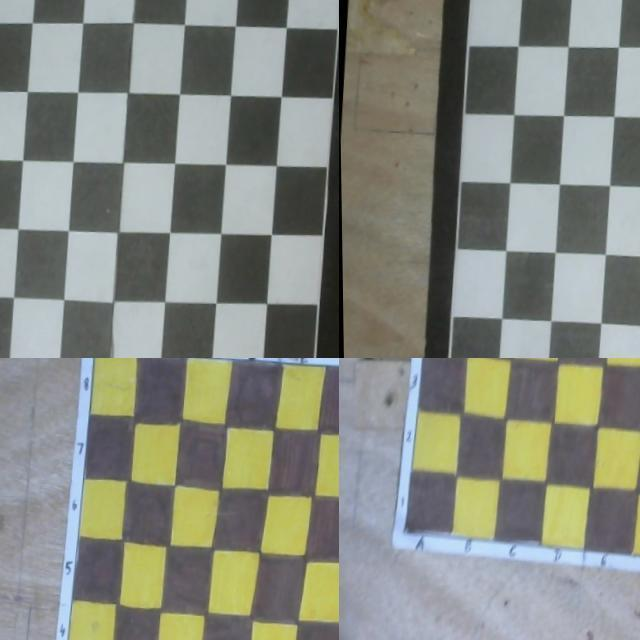chess-table-corners: (400, 528, 407, 538), (0, 0, 4, 5), (477, 0, 483, 3), (448, 358, 453, 360), (92, 358, 98, 359)
